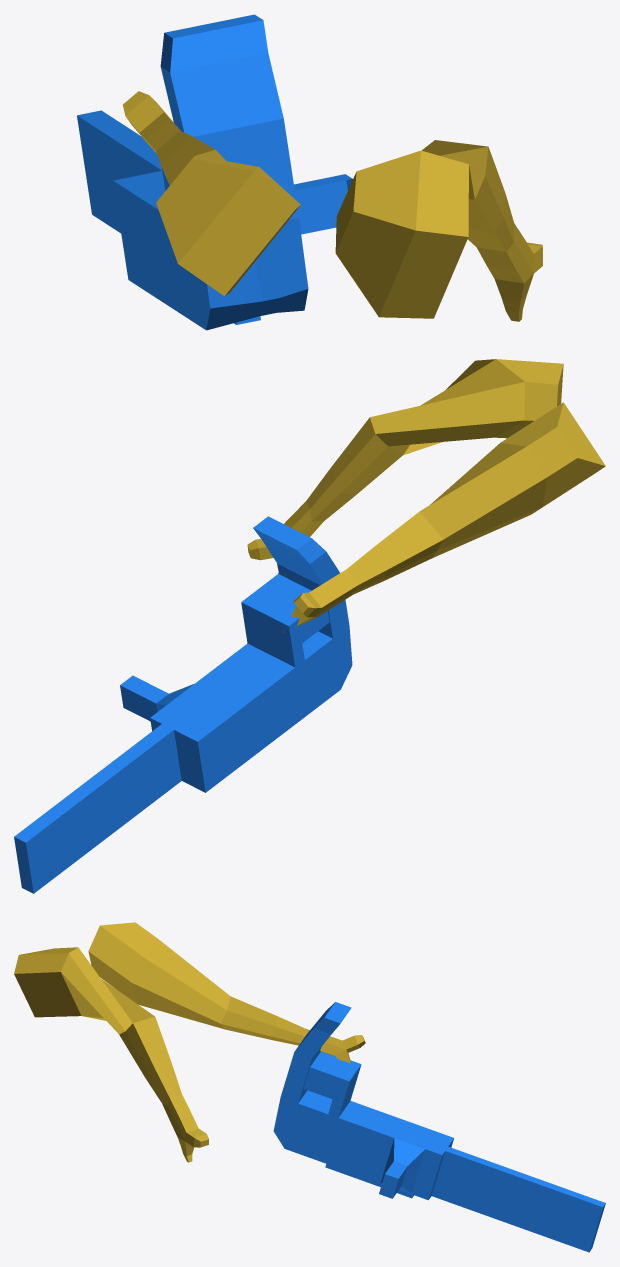
File: arme_000135.obj
The picture shows the model from 3 angles, top to bottom: view 1: azimuth 30°, elevation 25°; view 2: azimuth 150°, elevation 25°; view 3: azimuth 270°, elevation 25°; orthographic projection. The views are drawn at different scales.
Visible parts, largest first — view 1: Cube.048_Cube.024, Cube.046_Cube.010; view 2: Cube.046_Cube.010, Cube.048_Cube.024; view 3: Cube.046_Cube.010, Cube.048_Cube.024.
Boxes of the visible parts, x1,y1,x2,y2 form: Cube.048_Cube.024: [123, 91, 542, 321]; Cube.046_Cube.010: [77, 14, 352, 330]; Cube.046_Cube.010: [14, 516, 352, 893]; Cube.048_Cube.024: [247, 359, 605, 632]; Cube.046_Cube.010: [273, 1002, 605, 1252]; Cube.048_Cube.024: [14, 922, 365, 1162].
Bounding box in the file's own units: 1145 × 1172 × 2541.
